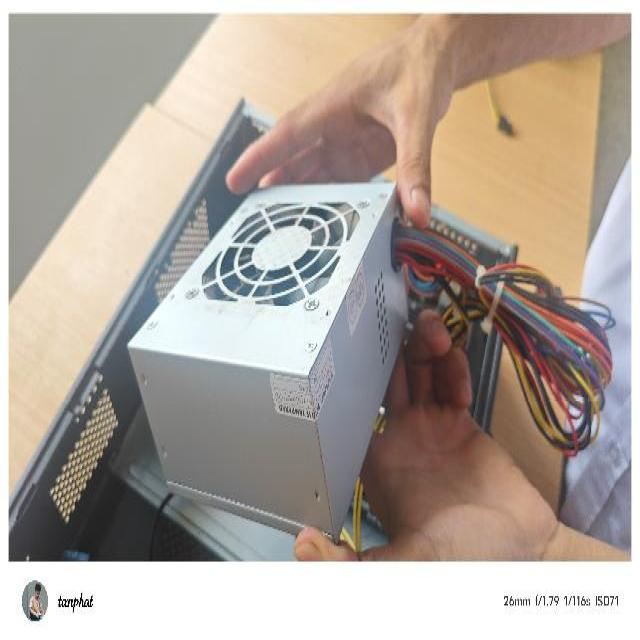PSU: (120, 167, 477, 545)
